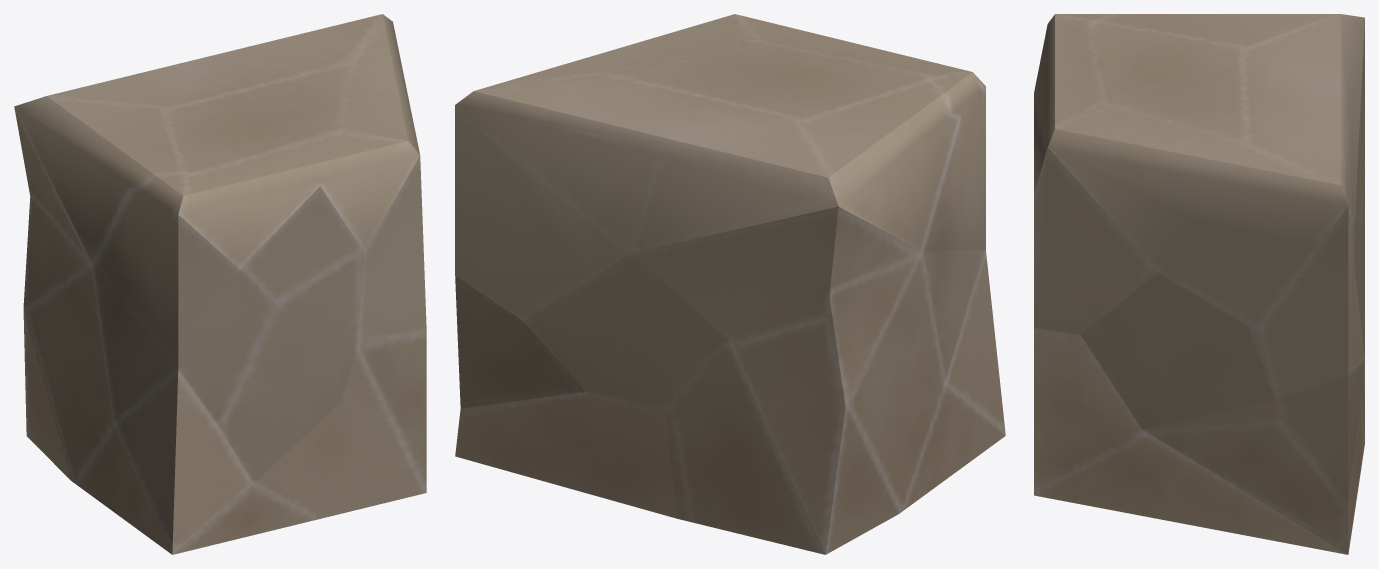
Rendered from rock pillars.fbx.
The picture shows the model from 3 angles, left to right: view 1: azimuth 30°, elevation 25°; view 2: azimuth 150°, elevation 25°; view 3: azimuth 270°, elevation 25°; orthographic projection. The views are drawn at different scales.
Parts seen in each view (by area): view 1: polySurface426; view 2: polySurface426; view 3: polySurface426.
Boxes of the visible parts, x1=… form: polySurface426: x1=14, y1=14, x2=426, y2=554; polySurface426: x1=455, y1=14, x2=1005, y2=554; polySurface426: x1=1034, y1=14, x2=1364, y2=554.
Bounding box in the file's own units: 6.65 × 5.98 × 4.91.
1 material, 1 textured.
